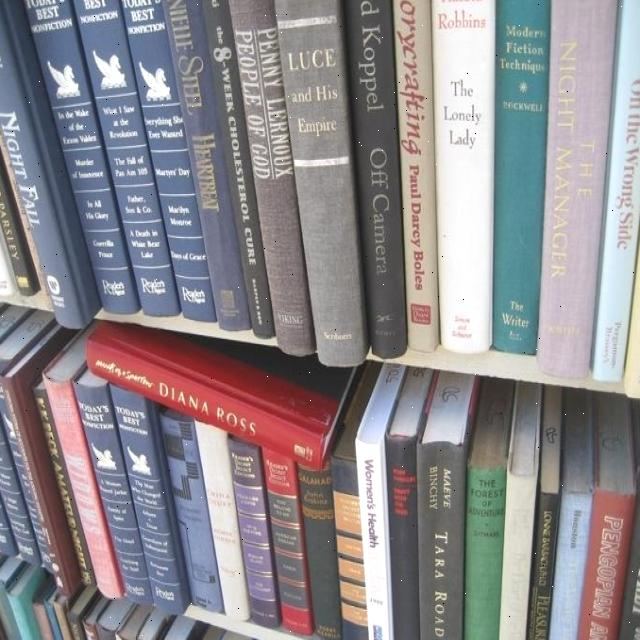book: (273, 0, 368, 365), (228, 0, 314, 354), (166, 0, 251, 329), (432, 0, 495, 351), (345, 0, 406, 355), (493, 0, 549, 353), (393, 0, 439, 350)
